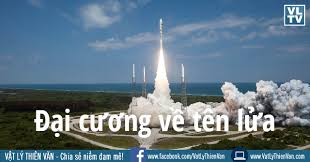ten_lua: (155, 16, 169, 51), (129, 60, 138, 83), (179, 64, 187, 84), (143, 64, 147, 84)
